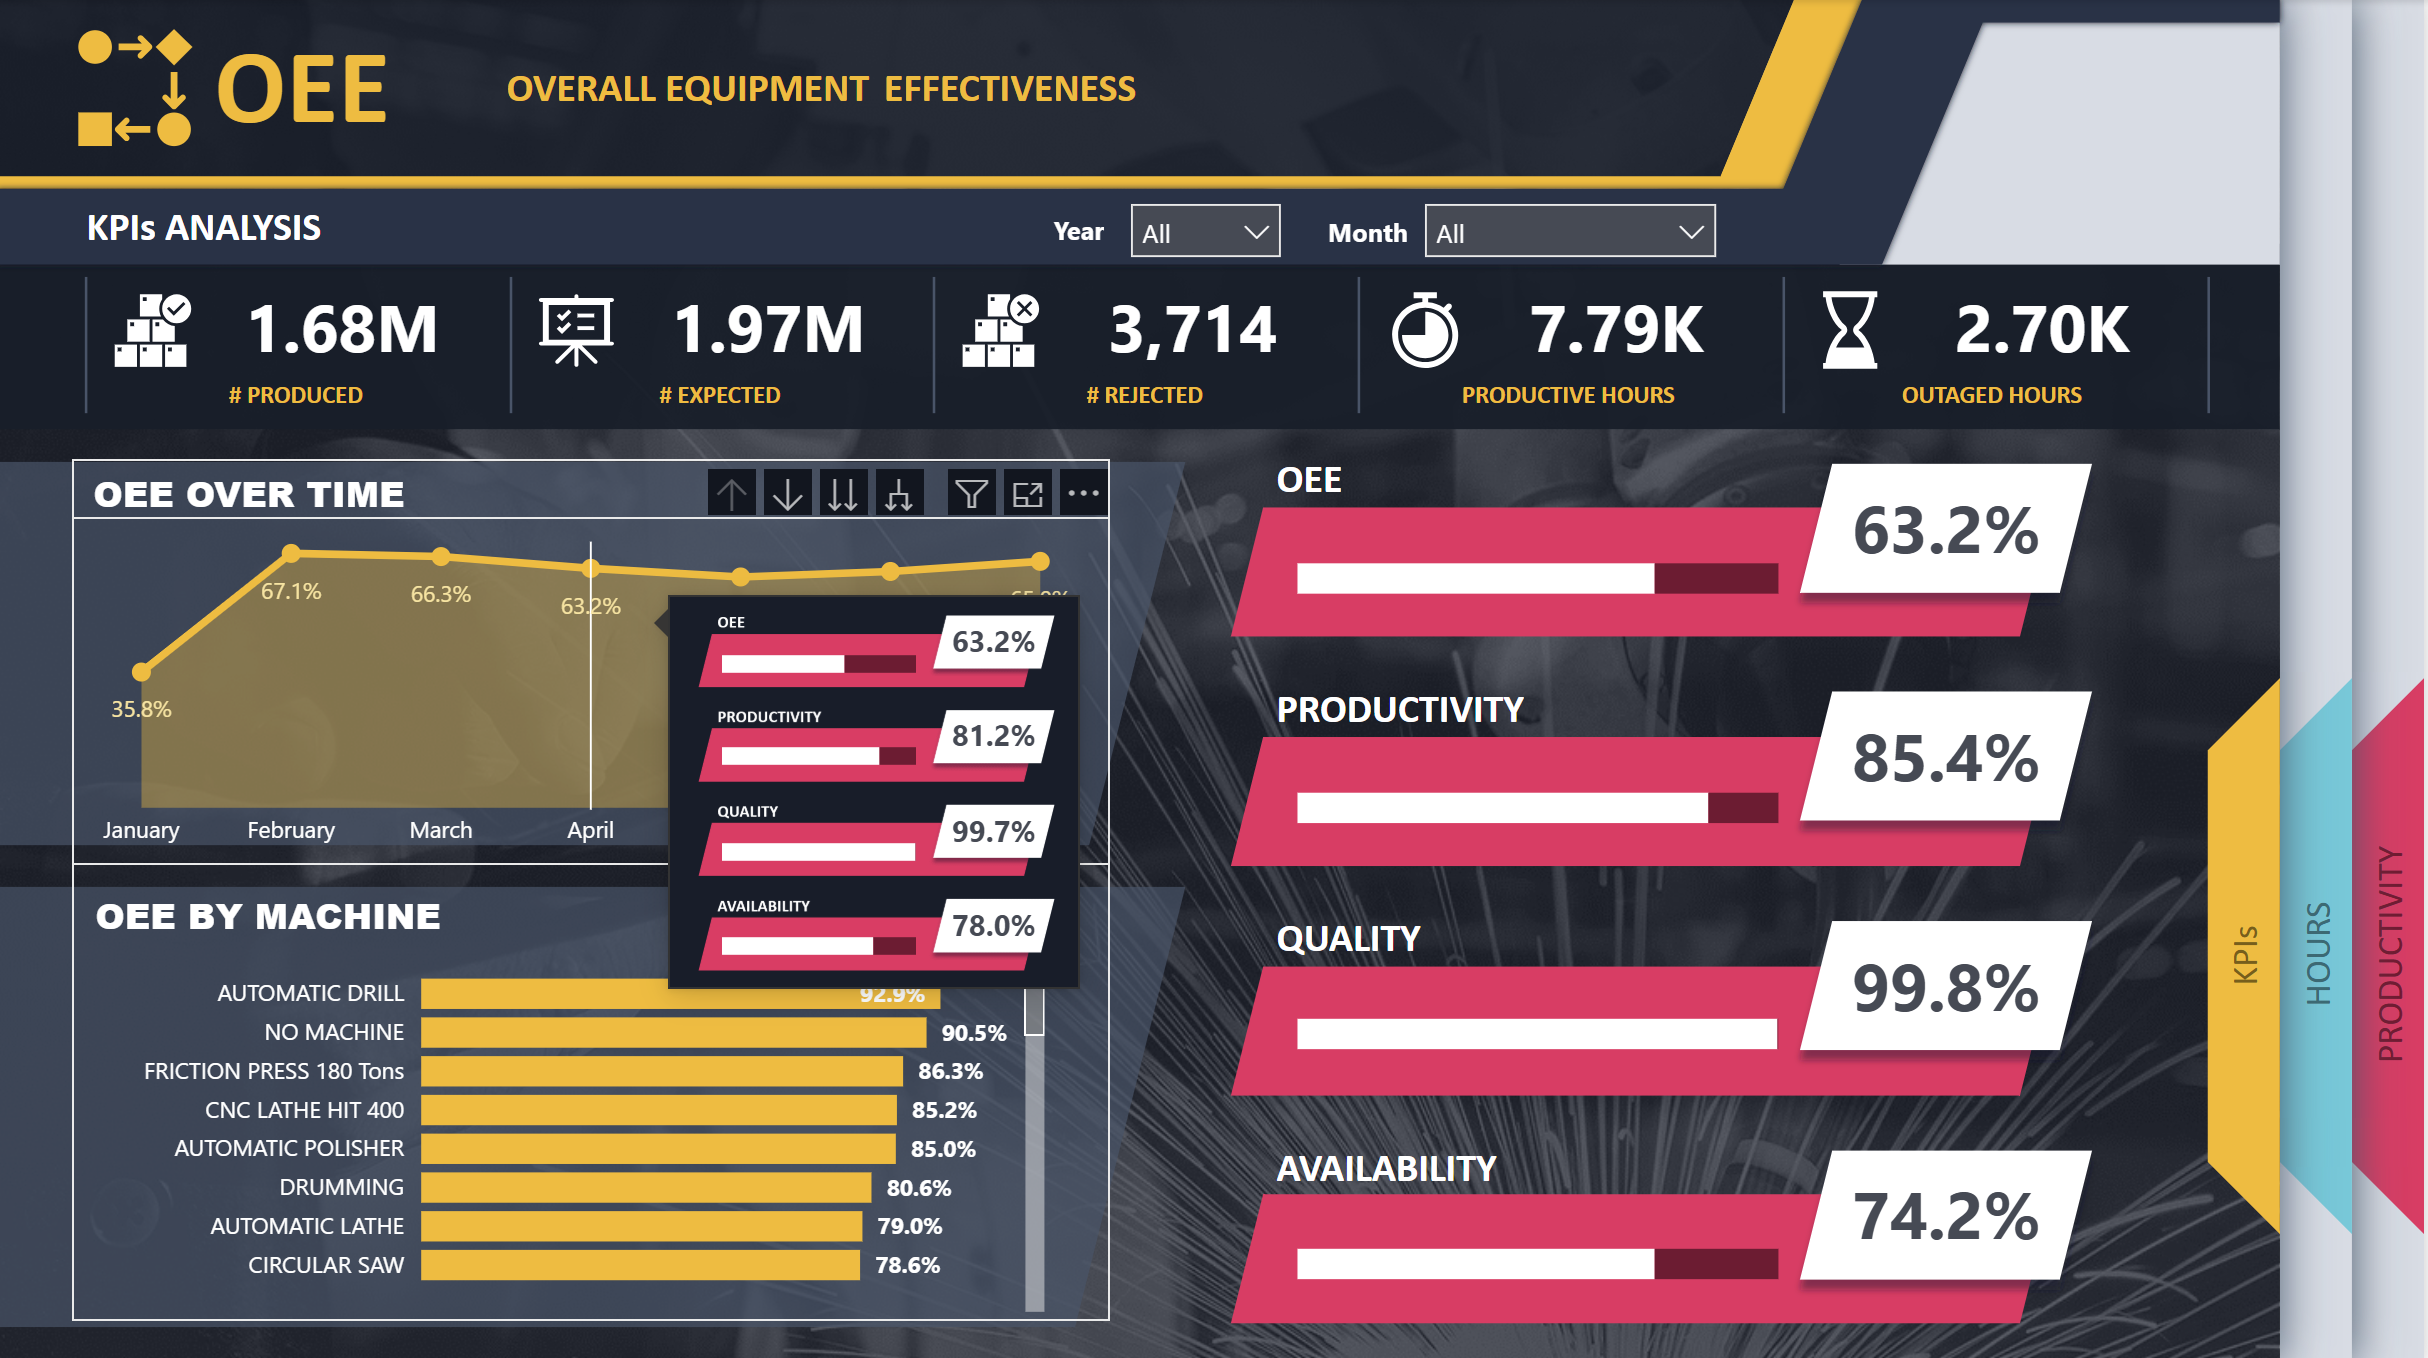

What the dashboard file says about the page in this screenshot:
{"tool":"powerbi","page":{"name":"KPIs","canvas":[1280,720],"ordinal":0},"visuals":[{"type":"slicer","fields":{"Values":["dDates.Date.Variation.Date Hierarchy.Year"]},"box":[587.7,97.7,99.1,46.8],"z":0,"group":"g3"},{"type":"card","fields":{"Values":["_Measures.Qty Produced"]},"box":[102.5,142.5,160.2,60.6],"z":0,"group":"g4"},{"type":"card","fields":{"Values":["_Measures.OEE"]},"box":[962,243.9,131,70.1],"z":0,"group":"g2"},{"type":"hundredPercentStackedBarChart","fields":{"Y":["_Measures.Availability","_Measures.Availability Auxiliary"]},"box":[681.4,280.4,263.6,44.9],"z":0,"group":"g1"},{"type":"clusteredBarChart","fields":{"Y":["_Measures.OEE"],"Category":["dMachine.Machine"]},"box":[41.2,486.8,516.5,209.9],"z":0,"group":"g5"},{"type":"slicer","fields":{"Values":["dDates.Date.Variation.Date Hierarchy.Month"]},"box":[743.3,97.7,173.4,46.8],"z":1000,"group":"g3"},{"type":"card","fields":{"Values":["_Measures.Qty Planned"]},"box":[326.9,142.5,160.2,60.6],"z":1000,"group":"g4"},{"type":"card","fields":{"Values":["_Measures.Productivity"]},"box":[962,364.5,131,70],"z":1000,"group":"g2"},{"type":"actionButton","box":[1242.6,396.7,37.4,219],"z":1000},{"type":"hundredPercentStackedBarChart","fields":{"Y":["_Measures.Productivity","_Measures.Productivity Auxiliary"]},"box":[681,400.1,263.7,46.2],"z":1000,"group":"g1"},{"type":"textbox","box":[47.7,464.9,347.8,48.9],"z":1000,"group":"g5"},{"type":"textbox","box":[686.8,108.7,61.9,28.9],"z":2000,"group":"g3"},{"type":"card","fields":{"Values":["_Measures.Productive Hours"]},"box":[774.2,142.5,160.2,60.6],"z":2000,"group":"g4"},{"type":"areaChart","fields":{"Y":["_Measures.OEE"],"Category":["dDates.Date.Variation.Date Hierarchy.Month","dDates.Date.Variation.Date Hierarchy.Day"]},"box":[40.4,272.7,546.9,183.3],"z":2000,"group":"g5"},{"type":"actionButton","box":[1204.3,396.7,37.4,219],"z":2000},{"type":"card","fields":{"Values":["_Measures.Quality"]},"box":[962,485.1,131,70],"z":2000,"group":"g2"},{"type":"hundredPercentStackedBarChart","fields":{"Y":["_Measures.Quality","_Measures.Quality Auxiliary"]},"box":[681.4,520.1,263.6,46.3],"z":2000,"group":"g1"},{"type":"textbox","box":[525.6,107.7,63.2,30.2],"z":3000,"group":"g3"},{"type":"card","fields":{"Values":["_Measures.Outage Hours"]},"box":[998.6,142.5,160.2,60.6],"z":3000,"group":"g4"},{"type":"textbox","box":[47,242.1,347.8,48.9],"z":3000,"group":"g5"},{"type":"card","fields":{"Values":["_Measures.Availability"]},"box":[962,605.6,131,70.1],"z":3000,"group":"g2"},{"type":"hundredPercentStackedBarChart","fields":{"Y":["_Measures.Availability","_Measures.Availability Auxiliary"]},"box":[681.4,640.7,263.6,46.3],"z":3000,"group":"g1"},{"type":"card","fields":{"Values":["_Measures.Qty Rejected"]},"box":[551.3,142.5,158.7,60.6],"z":4000,"group":"g4"},{"type":"group","id":"g1","title":"Stacked bars","box":[681,280.4,264,406.6],"z":4000},{"type":"group","id":"g2","title":"Cards","box":[962,243.9,131,431.8],"z":5000},{"type":"group","id":"g3","title":"Filters","box":[525.6,97.7,391.1,46.8],"z":6000},{"type":"group","id":"g4","title":"Cards Header","box":[102.5,142.5,1056.3,60.6],"z":7000},{"type":"group","id":"g5","title":"OEE Graphics","box":[40.4,242.1,546.9,454.7],"z":8000}]}

Visuals, with their boxes in screenshot pixels (x1, y1, x2, y2), scaled from the page's 1280x720 canvas onto the 2428x1358 screenshot:
slicer - dDates.Date.Variation.Date Hierarchy.Year: 1115/184/1303/273
card - _Measures.Qty Produced: 194/269/498/383
card - _Measures.OEE: 1825/460/2073/592
hundredPercentStackedBarChart - _Measures.Availability x _Measures.Availability Auxiliary: 1293/529/1793/614
clusteredBarChart - _Measures.OEE x dMachine.Machine: 78/918/1058/1314
slicer - dDates.Date.Variation.Date Hierarchy.Month: 1410/184/1739/273
card - _Measures.Qty Planned: 620/269/924/383
card - _Measures.Productivity: 1825/687/2073/820
actionButton: 2357/748/2427/1161
hundredPercentStackedBarChart - _Measures.Productivity x _Measures.Productivity Auxiliary: 1292/755/1792/842
textbox: 90/877/750/969
textbox: 1303/205/1420/260
card - _Measures.Productive Hours: 1469/269/1772/383
areaChart - _Measures.OEE x dDates.Date.Variation.Date Hierarchy.Month: 77/514/1114/860
actionButton: 2284/748/2355/1161
card - _Measures.Quality: 1825/915/2073/1047
hundredPercentStackedBarChart - _Measures.Quality x _Measures.Quality Auxiliary: 1293/981/1793/1068
textbox: 997/203/1117/260
card - _Measures.Outage Hours: 1894/269/2198/383
textbox: 89/457/749/549
card - _Measures.Availability: 1825/1142/2073/1274
hundredPercentStackedBarChart - _Measures.Availability x _Measures.Availability Auxiliary: 1293/1208/1793/1296
card - _Measures.Qty Rejected: 1046/269/1347/383
"Stacked bars" group: 1292/529/1793/1296
"Cards" group: 1825/460/2073/1274
"Filters" group: 997/184/1739/273
"Cards Header" group: 194/269/2198/383
"OEE Graphics" group: 77/457/1114/1314
